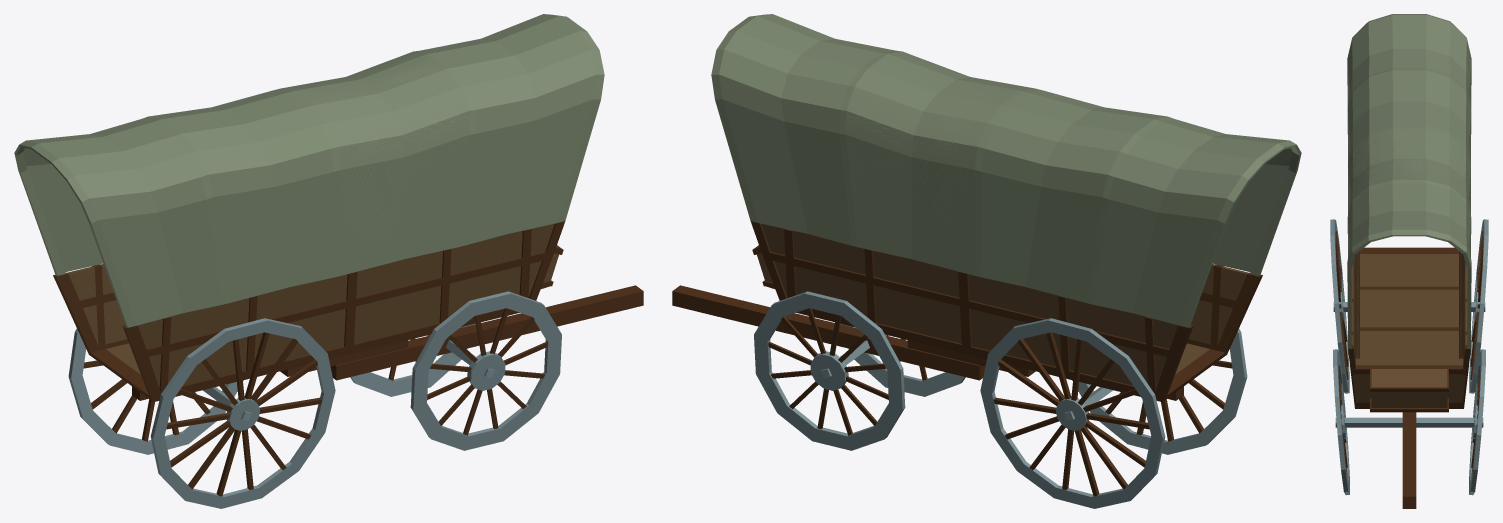
The model's file is Wagon.fbx.
The picture shows the model from 3 angles, left to right: view 1: azimuth 30°, elevation 25°; view 2: azimuth 150°, elevation 25°; view 3: azimuth 270°, elevation 25°; orthographic projection. The views are drawn at different scales.
Visible parts, largest first — view 1: Canvas, Wagon Base, Wheel Rear.Right, Wheel Front.Right, Spokes Rear.Right, Steering, Spokes Front.Right, Wheel Rear.Left, Wheel Front.Left, Spokes Rear.Left; view 2: Canvas, Wagon Base, Wheel Rear.Left, Wheel Front.Left, Spokes Rear.Left, Steering, Spokes Front.Left, Wheel Rear.Right, Wheel Front.Right, Spokes Rear.Right; view 3: Canvas, Wagon Base, Steering, Axel Front, Wheel Rear.Right, Wheel Rear.Left, Wheel Front.Right, Wheel Front.Left, Spokes Rear.Right, Spokes Rear.Left, Spokes Front.Right, Spokes Front.Left.
Part boxes in pixels (box(x1,y1,x2,y2)): Canvas: box(14, 14, 604, 327); Wagon Base: box(53, 221, 565, 401); Wheel Rear.Right: box(150, 318, 335, 508); Wheel Front.Right: box(410, 291, 561, 450); Spokes Rear.Right: box(166, 332, 322, 496); Steering: box(132, 285, 643, 400); Spokes Front.Right: box(427, 308, 547, 435); Wheel Rear.Left: box(68, 328, 243, 454); Wheel Front.Left: box(350, 323, 475, 396); Spokes Rear.Left: box(83, 360, 210, 441); Canvas: box(711, 14, 1301, 327); Wagon Base: box(750, 221, 1262, 401); Wheel Rear.Left: box(980, 318, 1165, 508); Wheel Front.Left: box(754, 291, 905, 450); Spokes Rear.Left: box(993, 332, 1149, 496); Steering: box(672, 285, 1183, 400); Spokes Front.Left: box(768, 308, 888, 435); Wheel Rear.Right: box(1072, 328, 1247, 454); Wheel Front.Right: box(840, 323, 965, 396); Spokes Rear.Right: box(1105, 360, 1232, 441); Canvas: box(1347, 14, 1471, 348); Wagon Base: box(1348, 247, 1470, 412); Steering: box(1402, 412, 1416, 508); Axel Front: box(1335, 417, 1483, 427); Wheel Rear.Right: box(1330, 219, 1349, 393); Wheel Rear.Left: box(1469, 219, 1488, 393); Wheel Front.Right: box(1333, 349, 1349, 495); Wheel Front.Left: box(1469, 349, 1485, 495); Spokes Rear.Right: box(1335, 231, 1348, 380); Spokes Rear.Left: box(1470, 231, 1483, 380); Spokes Front.Right: box(1338, 366, 1347, 478); Spokes Front.Left: box(1471, 366, 1480, 478).
Bounding box in the file's own units: 675 × 393 × 183.
1 material, 1 textured.
